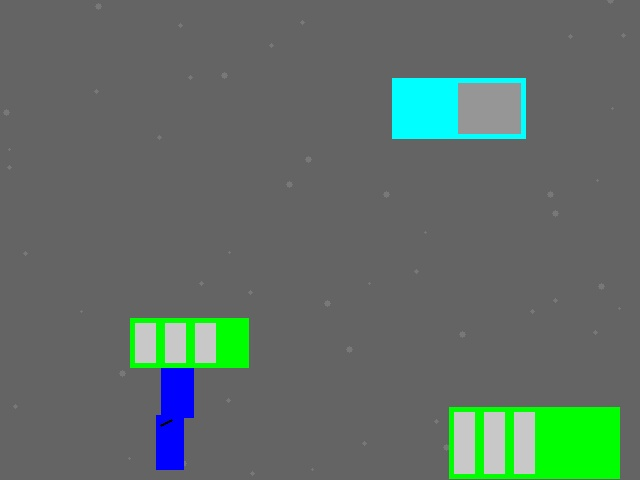bus: (449, 407, 619, 478), (130, 318, 248, 367)
motorcycle: (161, 352, 193, 417), (156, 415, 183, 469)
truck: (392, 78, 525, 138)
